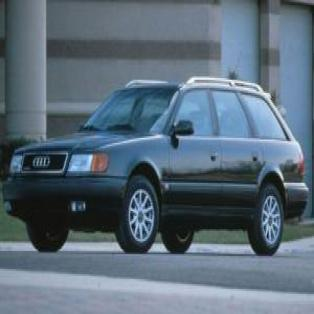Auto: (5, 45, 310, 259)
